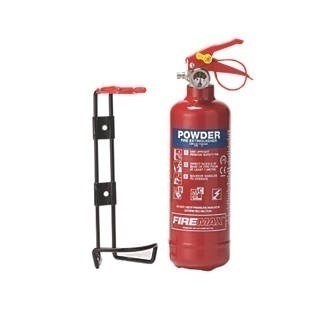fire_extinguisher: (168, 38, 253, 271)
